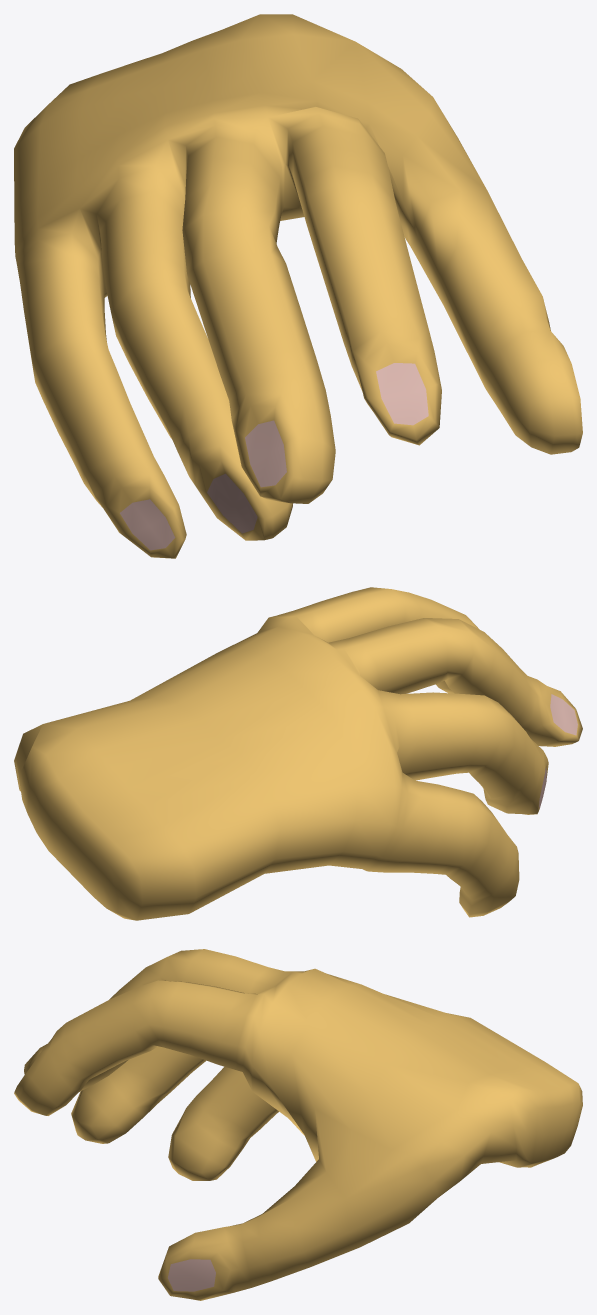
File: Hand_Med.fbx
3 views of the same model, one above another, from view 1: azimuth 30°, elevation 25°; view 2: azimuth 150°, elevation 25°; view 3: azimuth 270°, elevation 25° (orthographic). The views are drawn at different scales.
Visible parts, largest first — view 1: Hand.003; view 2: Hand.003; view 3: Hand.003.
Boxes of the visible parts, x1,y1,x2,y2 form: Hand.003: [14, 14, 582, 558]; Hand.003: [14, 587, 582, 920]; Hand.003: [14, 949, 582, 1300].
Size of the model in its own units: 437 by 616 by 302.
